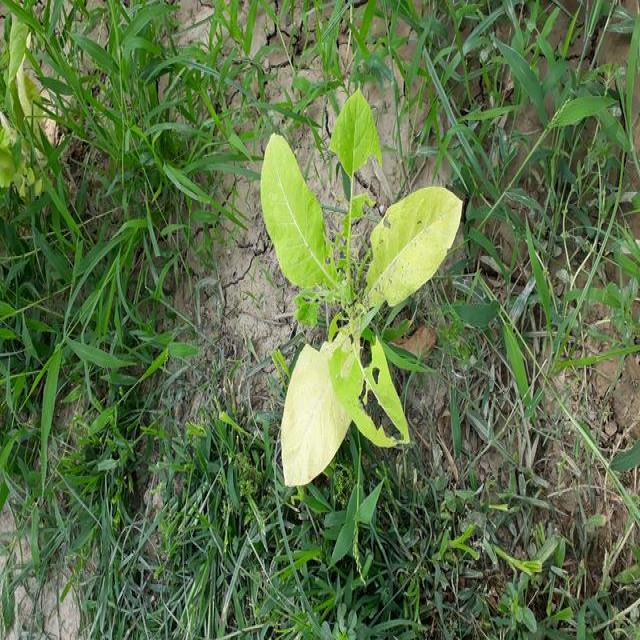crop: (261, 94, 464, 498)
